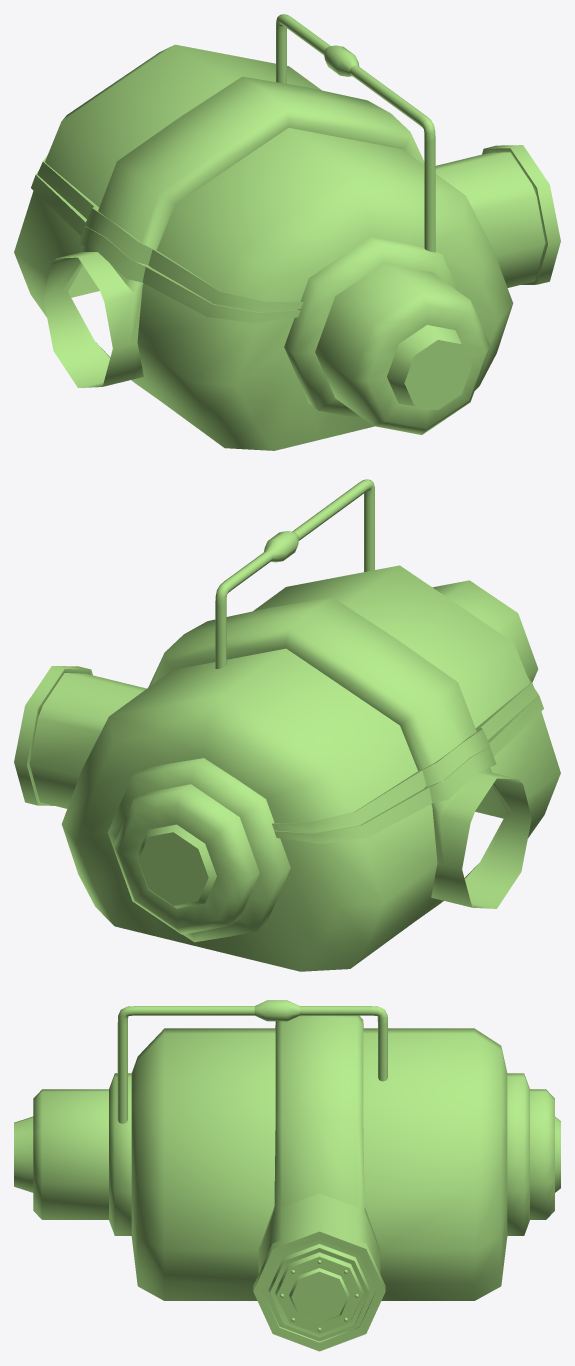
Rendered from MiniGenerator.fbx.
3 renders of one model, top to bottom at view 1: azimuth 30°, elevation 25°; view 2: azimuth 150°, elevation 25°; view 3: azimuth 270°, elevation 25°, orthographic. The views are drawn at different scales.
Parts seen in each view (by area): view 1: MiniGenerator; view 2: MiniGenerator; view 3: MiniGenerator.
Part boxes in pixels (x1=…): MiniGenerator: x1=14, y1=14, x2=560, y2=450; MiniGenerator: x1=14, y1=479, x2=560, y2=971; MiniGenerator: x1=14, y1=1000, x2=560, y2=1351.
Bounding box in the file's own units: 172 × 110 × 203.
